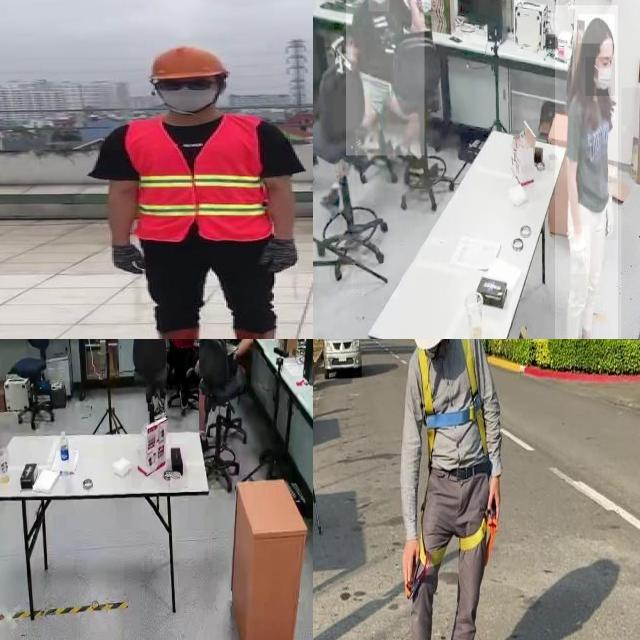Harness: (418, 339, 488, 458), (405, 510, 496, 601)
face_mask: (585, 57, 615, 96), (368, 0, 389, 12)
hand_glove: (570, 226, 590, 274), (603, 194, 617, 240)
head_helmet: (145, 45, 228, 83)
head_nohelmet: (578, 14, 615, 44)
person: (91, 41, 313, 339), (555, 5, 618, 339), (346, 0, 425, 156), (196, 339, 254, 399), (166, 339, 199, 410)
shoes: (577, 328, 607, 339)
vest: (125, 116, 272, 242)
